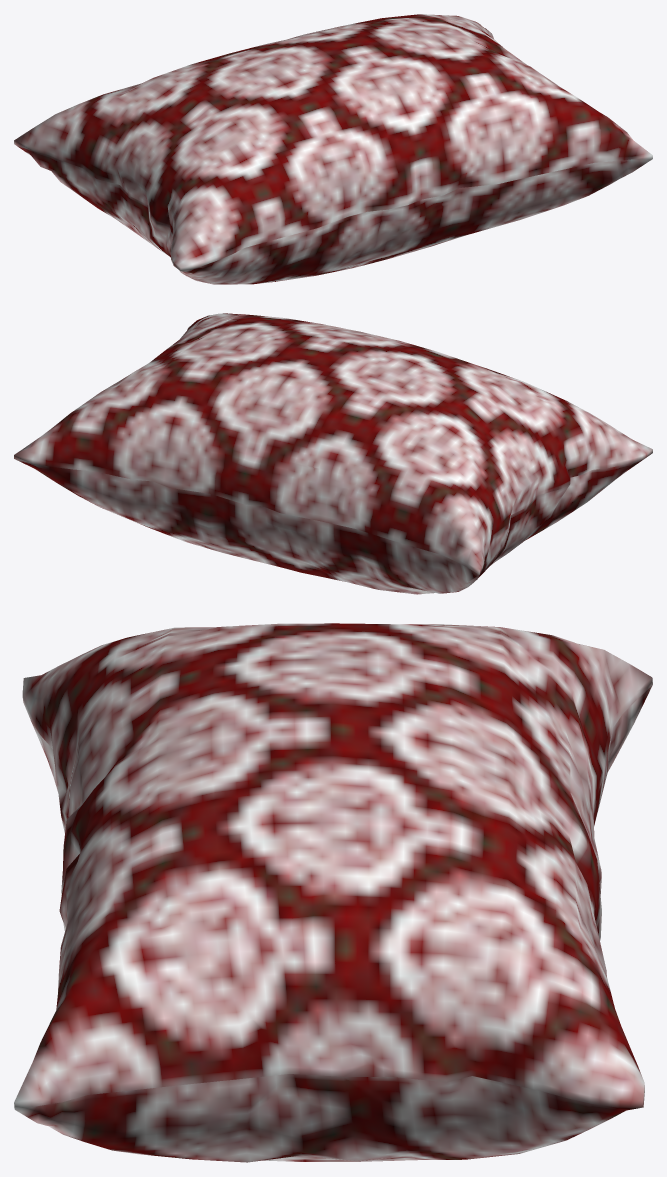
File: yusuf_tufted_.fbx
The picture shows the model from 3 angles, top to bottom: view 1: azimuth 30°, elevation 25°; view 2: azimuth 150°, elevation 25°; view 3: azimuth 270°, elevation 25°; orthographic projection. The views are drawn at different scales.
Parts seen in each view (by area): view 1: Yusuf Tufted Upholstered Low Profile Standard Bed.002; view 2: Yusuf Tufted Upholstered Low Profile Standard Bed.002; view 3: Yusuf Tufted Upholstered Low Profile Standard Bed.002.
Boxes of the visible parts, x1=… form: Yusuf Tufted Upholstered Low Profile Standard Bed.002: x1=14, y1=14, x2=652, y2=284; Yusuf Tufted Upholstered Low Profile Standard Bed.002: x1=14, y1=313, x2=652, y2=594; Yusuf Tufted Upholstered Low Profile Standard Bed.002: x1=14, y1=623, x2=652, y2=1162.
Size of the model in its own units: 0.7399 by 0.296 by 0.4693.
